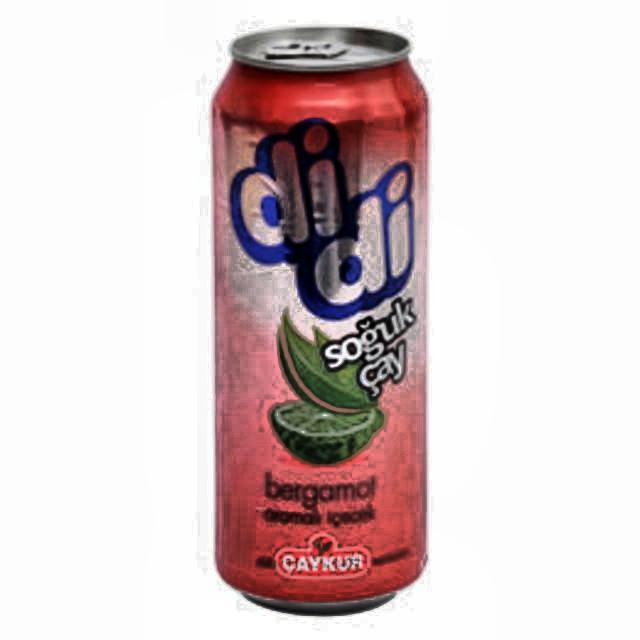metal: (209, 26, 431, 619)
